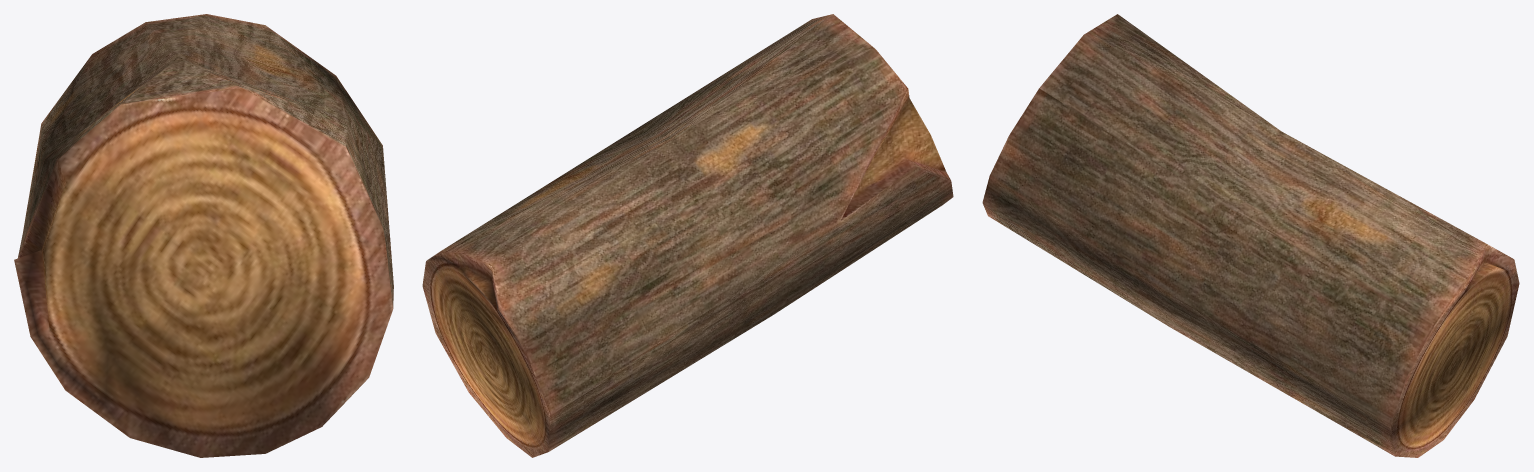
The model's file is donkey-resourcewood-slice-base.glb.
The picture shows the model from 3 angles, left to right: view 1: azimuth 30°, elevation 25°; view 2: azimuth 150°, elevation 25°; view 3: azimuth 270°, elevation 25°; orthographic projection. The views are drawn at different scales.
Bounding box in the file's own units: 0.5597 × 0.489 × 0.6892.
Materials: 1 (1 with a texture image).
